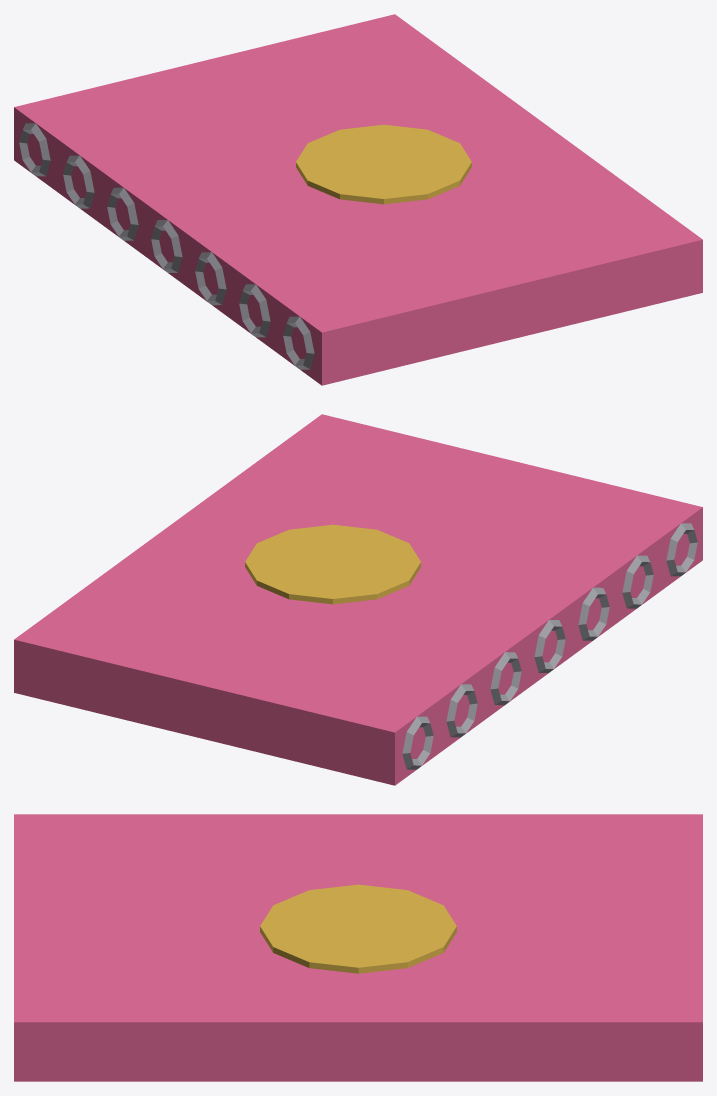
The model's file is orders_notebook.glb.
3 renders of one model, top to bottom at view 1: azimuth 30°, elevation 25°; view 2: azimuth 150°, elevation 25°; view 3: azimuth 270°, elevation 25°, orthographic. The views are drawn at different scales.
Visible parts, largest first — view 1: cover_notebook_pink, label_label_gold, spiral_spiral (×7); view 2: cover_notebook_pink, label_label_gold, spiral_spiral (×7); view 3: cover_notebook_pink, label_label_gold.
Boxes of the visible parts, <box> form: cover_notebook_pink: <box>14,14,702,385</box>; label_label_gold: <box>296,124,471,204</box>; spiral_spiral (×7): <box>19,123,314,369</box>; cover_notebook_pink: <box>14,414,702,785</box>; label_label_gold: <box>245,524,420,604</box>; spiral_spiral (×7): <box>402,523,697,769</box>; cover_notebook_pink: <box>14,814,702,1081</box>; label_label_gold: <box>260,884,456,973</box>.
Size of the model in its own units: 0.152 by 0.022 by 0.21.
